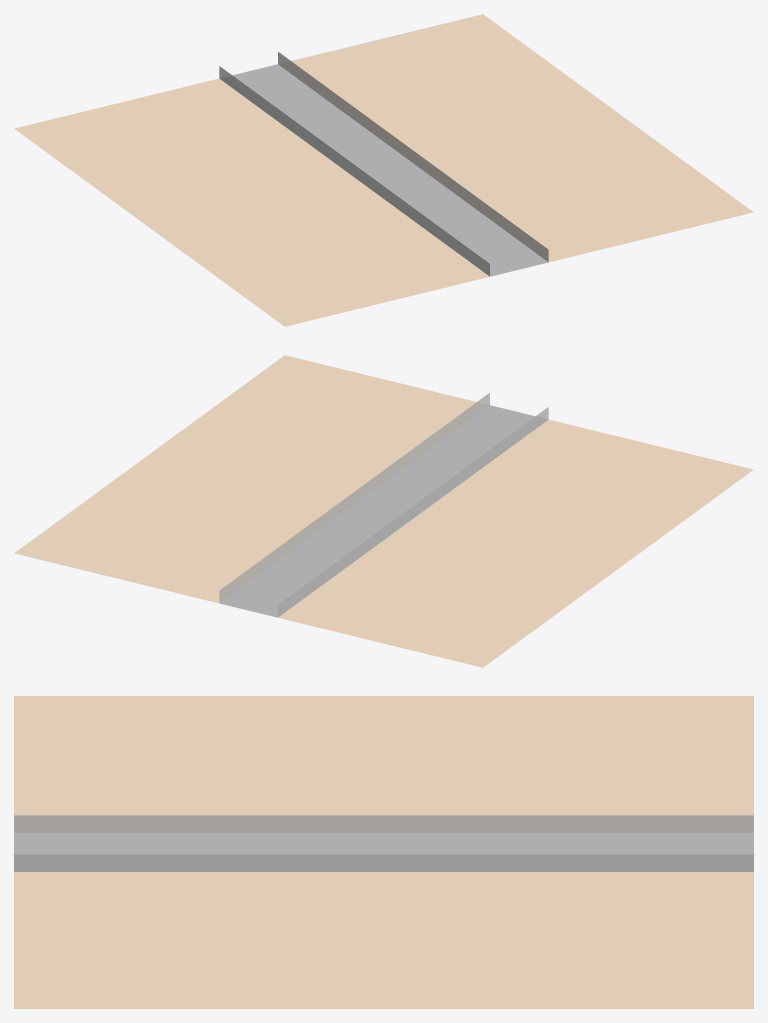
Rendered from map00.gltf.
3 renders of one model, top to bottom at view 1: azimuth 30°, elevation 25°; view 2: azimuth 150°, elevation 25°; view 3: azimuth 270°, elevation 25°, orthographic. The views are drawn at different scales.
Parts seen in each view (by area): view 1: Node13, Node86, Node227, Node228, Node62, Node65, Node66, Node72, Node88, Node89, Node97, Node109 (+48 smaller); view 2: Node13, Node86, Node227, Node228, Node58, Node60, Node69, Node80, Node91, Node93, Node96, Node101 (+48 smaller); view 3: Node13, Node86, Node227, Node228, Node59, Node60, Node62, Node64, Node66, Node68, Node69, Node70 (+104 smaller).
Part boxes in pixels (x1,y1,x2,y2): Node13: [249, 64, 548, 269]; Node86: [220, 71, 518, 276]; Node227: [219, 66, 489, 276]; Node228: [278, 52, 548, 261]; Node62: [379, 234, 460, 287]; Node65: [555, 191, 635, 244]; Node66: [628, 173, 709, 226]; Node72: [305, 252, 386, 305]; Node88: [132, 96, 212, 149]; Node89: [58, 114, 139, 167]; Node97: [307, 53, 388, 106]; Node109: [381, 35, 462, 88]; Node13: [219, 405, 518, 610]; Node86: [249, 412, 547, 617]; Node227: [278, 407, 548, 617]; Node228: [219, 393, 489, 602]; Node58: [555, 437, 635, 490]; Node60: [628, 455, 709, 508]; Node69: [379, 394, 460, 447]; Node80: [305, 376, 386, 429]; Node91: [307, 575, 388, 628]; Node93: [132, 532, 212, 585]; Node96: [58, 514, 139, 567]; Node101: [381, 593, 462, 646]; Node13: [14, 852, 753, 871]; Node86: [14, 833, 753, 852]; Node227: [14, 815, 753, 832]; Node228: [14, 854, 753, 871]; Node59: [14, 764, 198, 774]; Node60: [14, 725, 198, 735]; Node62: [14, 803, 198, 813]; Node64: [14, 930, 198, 940]; Node66: [14, 969, 198, 979]; Node68: [14, 881, 198, 891]; Node69: [14, 891, 198, 901]; Node70: [14, 715, 198, 725].
Bounding box in the file's own units: 2139194 × 55678 × 2139194.
